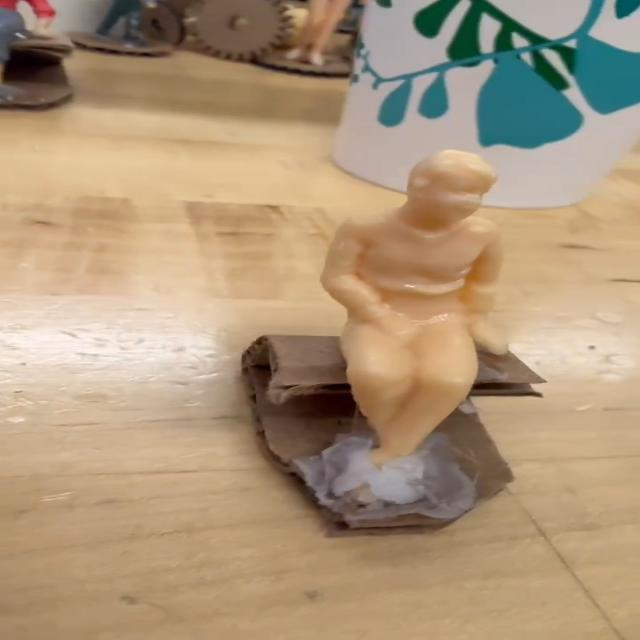Unauthorized: (313, 148, 522, 504)
